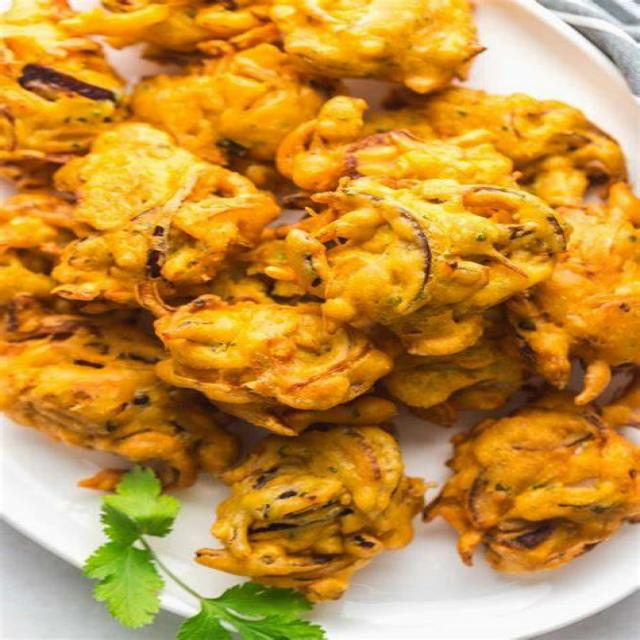Onion Pakora: (6, 0, 628, 640)
